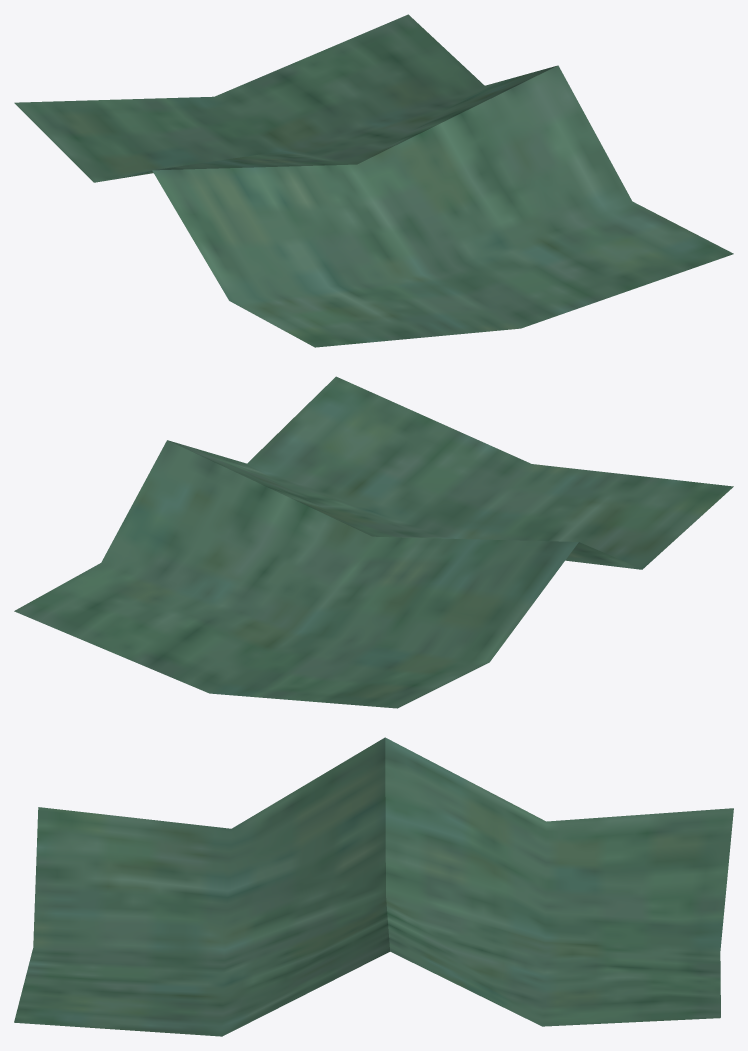
File: poi_nboo_tent_med_l3.fbx
3 views of the same model, one above another, from view 1: azimuth 30°, elevation 25°; view 2: azimuth 150°, elevation 25°; view 3: azimuth 270°, elevation 25° (orthographic). The views are drawn at different scales.
Visible parts, largest first — view 1: mesh_node; view 2: mesh_node; view 3: mesh_node.
Part boxes in pixels (x1,y1,x2,y2): mesh_node: (14, 14, 733, 347); mesh_node: (14, 376, 733, 708); mesh_node: (14, 737, 733, 1036).
Size of the model in its own units: 6.49 by 1.56 by 8.98.
